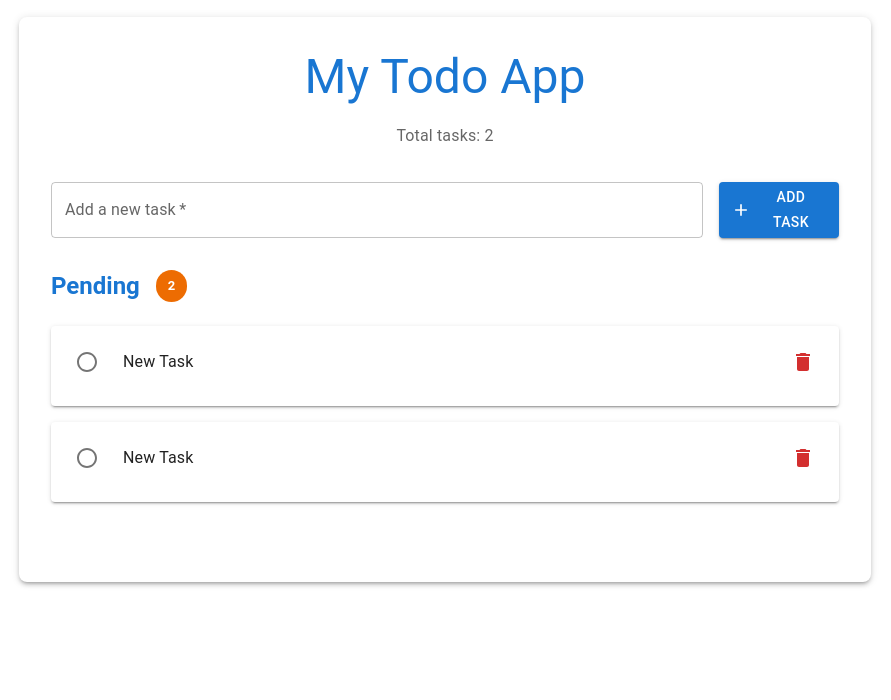
Test case: App › should add a task by pressing the enter key
Type "Enter Key Task" into the field labelled "Add a new task *".
click(377, 210); type("Enter Key Task")  # box [51,182,703,238]
Then press Enter
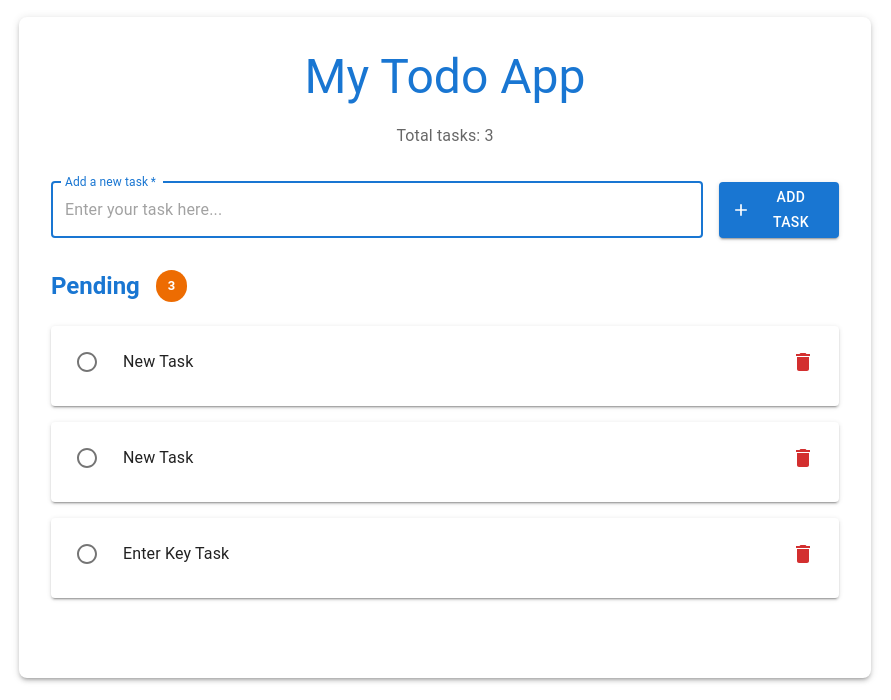
expect the text "Enter Key Task" is shown: met, box [123,544,229,563]
